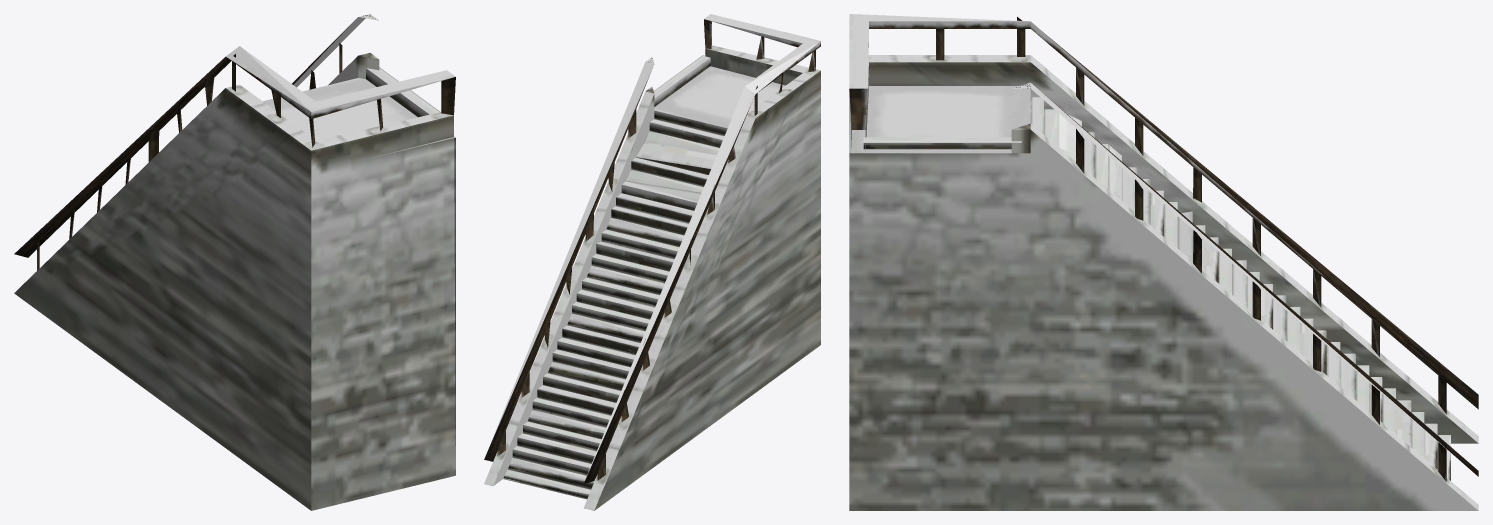
Rendered from general_obj_watchtower03-01_lod_01.fbx.
3 renders of one model, left to right at view 1: azimuth 30°, elevation 25°; view 2: azimuth 150°, elevation 25°; view 3: azimuth 270°, elevation 25°, orthographic. The views are drawn at different scales.
Parts seen in each view (by area): view 1: Sphere01; view 2: Sphere01; view 3: Sphere01.
Boxes of the visible parts, bbox=[...] form: Sphere01: bbox=[14, 14, 455, 510]; Sphere01: bbox=[484, 14, 820, 510]; Sphere01: bbox=[849, 14, 1478, 510].
Size of the model in its own units: 2.91 by 7.49 by 10.12.
